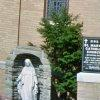Statue: (11, 42, 44, 100)
